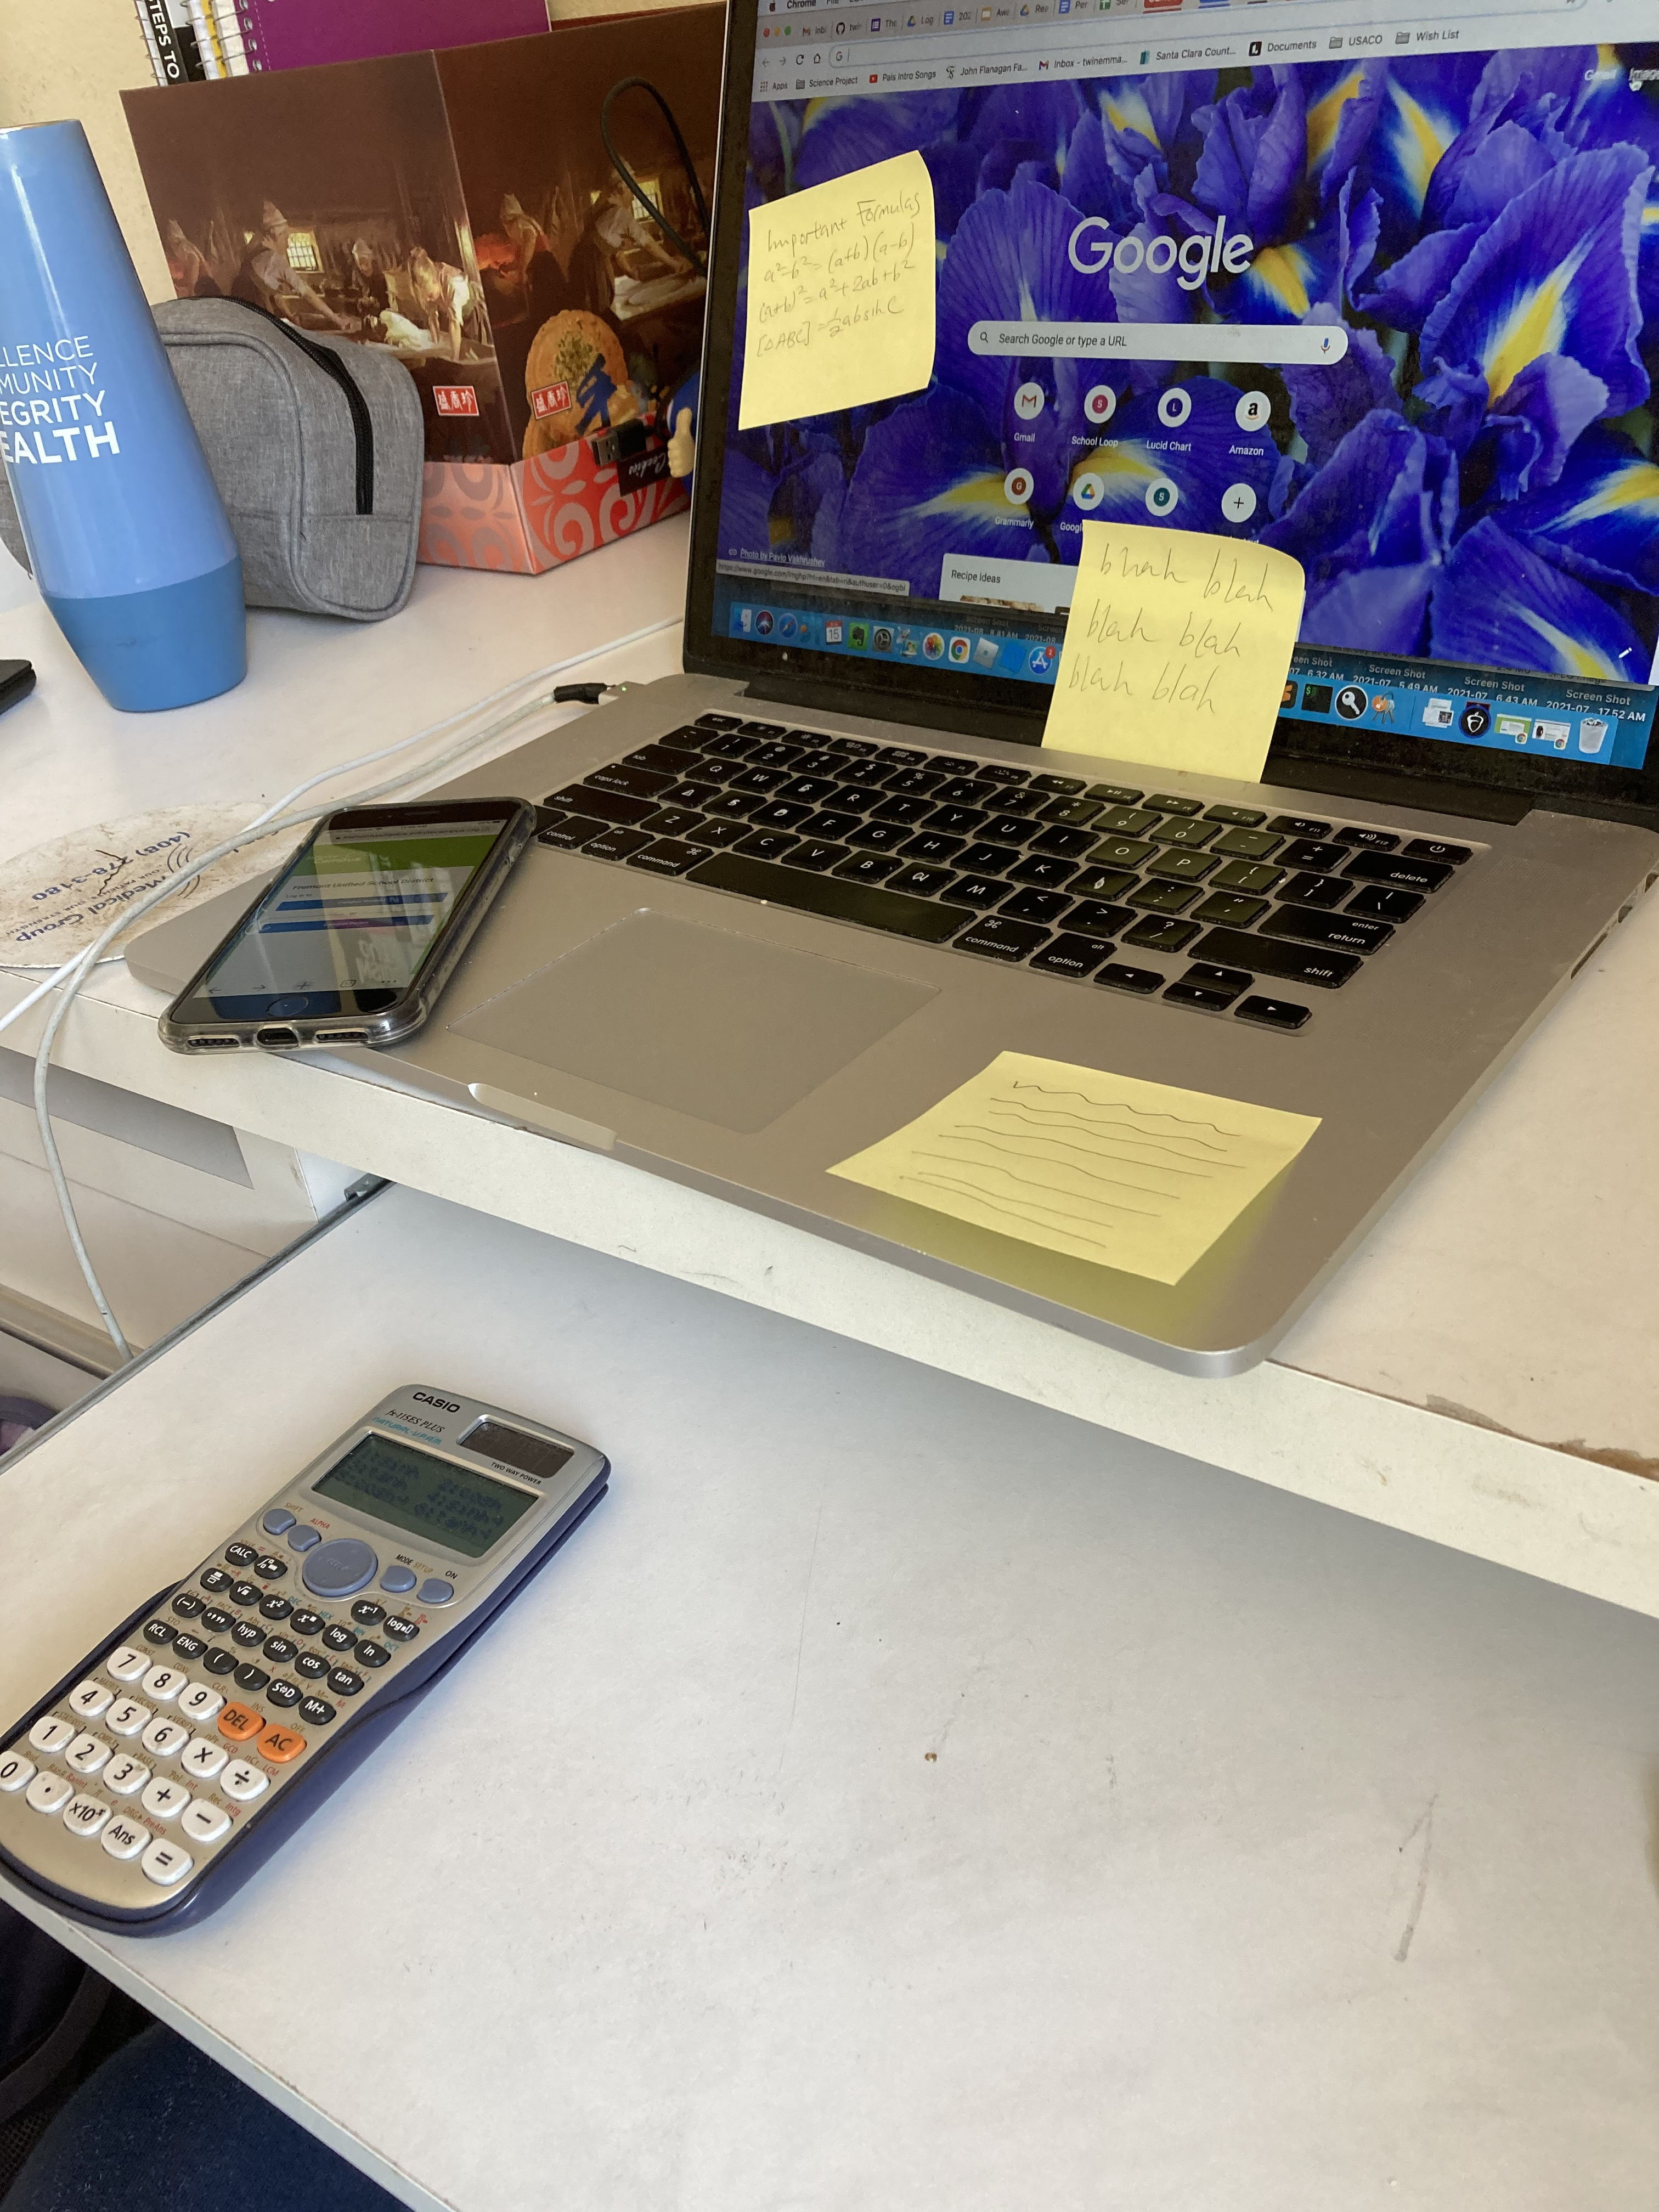Calculator: (31, 1381, 620, 1914)
Cell Phone: (162, 803, 533, 1033)
Note: (835, 1061, 1340, 1271), (1039, 512, 1317, 782), (737, 152, 938, 437)
